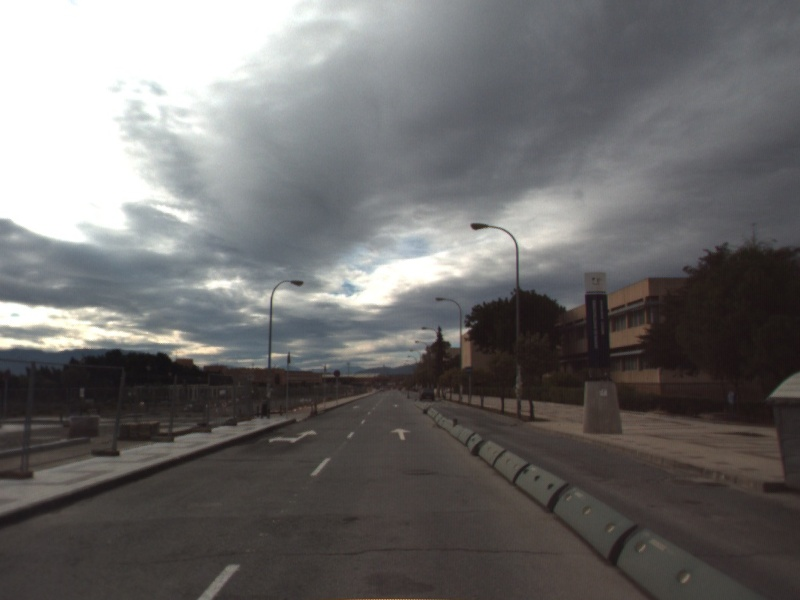STRAIGHT: (389, 426, 413, 442)
STRAIGHT_LEFT: (266, 427, 319, 446)
